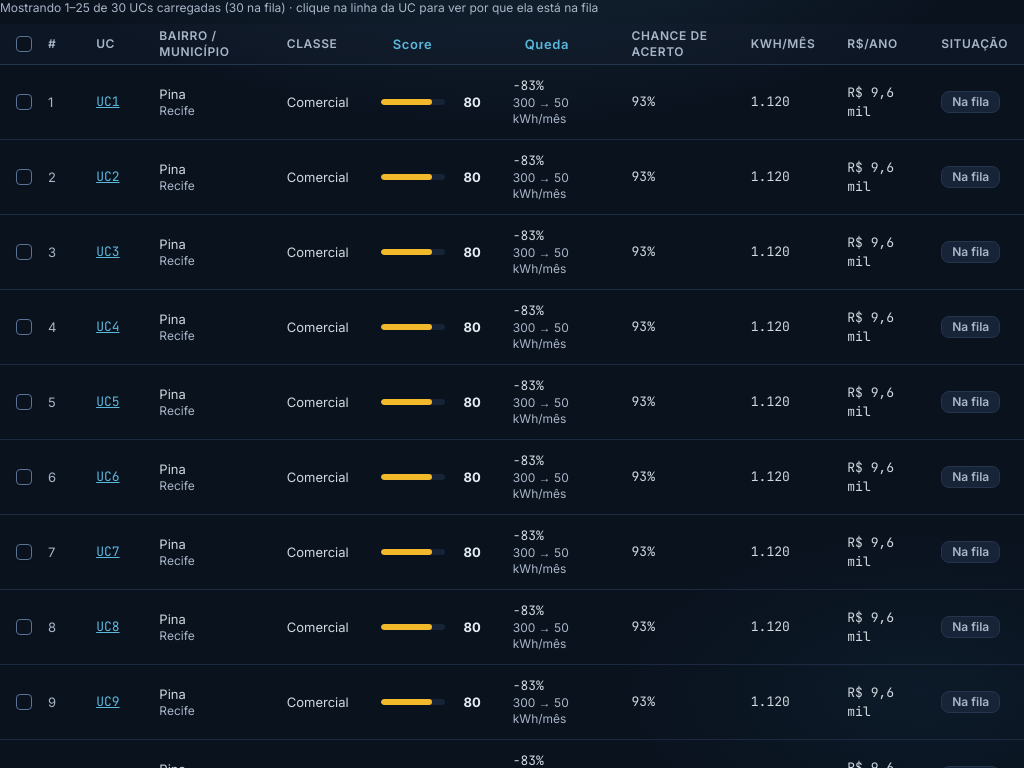
Test case: PrioritizedQueueTable › marca pelo cabeçalho só as UCs da página visível
The image size is (1024, 768).
Click the checkbox named "Selecionar as UCs livres da página". click: (24, 44)
box: [16,36,32,52]
(page scrolled)
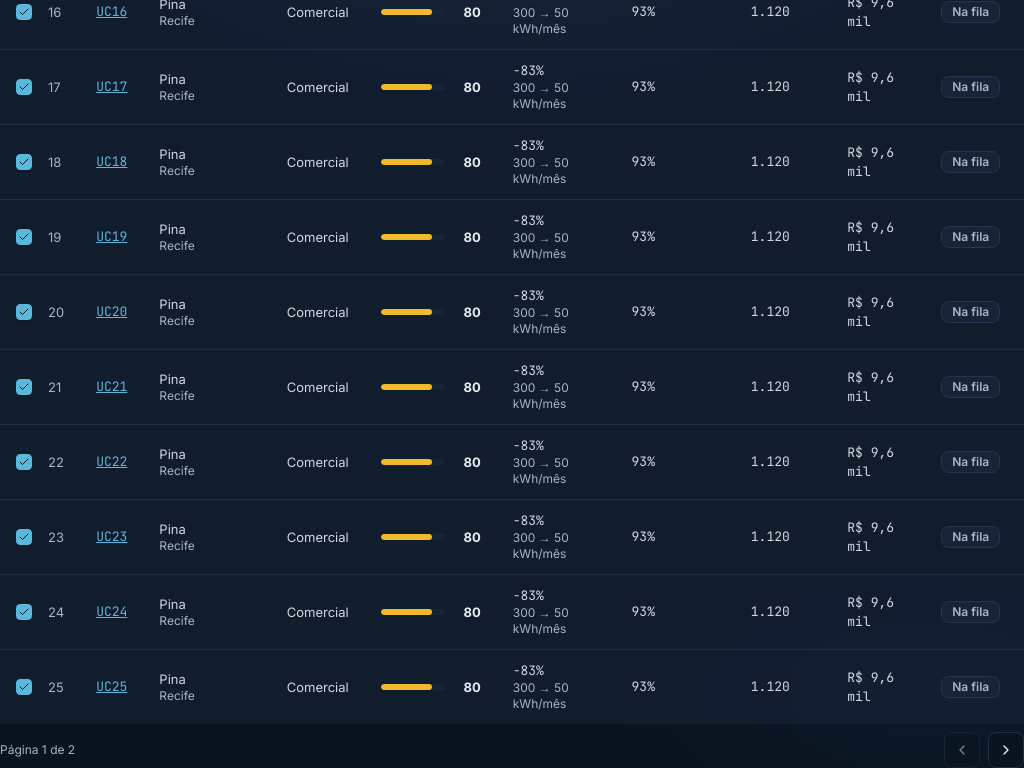
Check: the checkbox named "Selecionar UC25" is checked, box [16,678,32,694]
Click the button named "Próxima página". click: (1006, 750)
box: [988,732,1023,767]
(page scrolled)
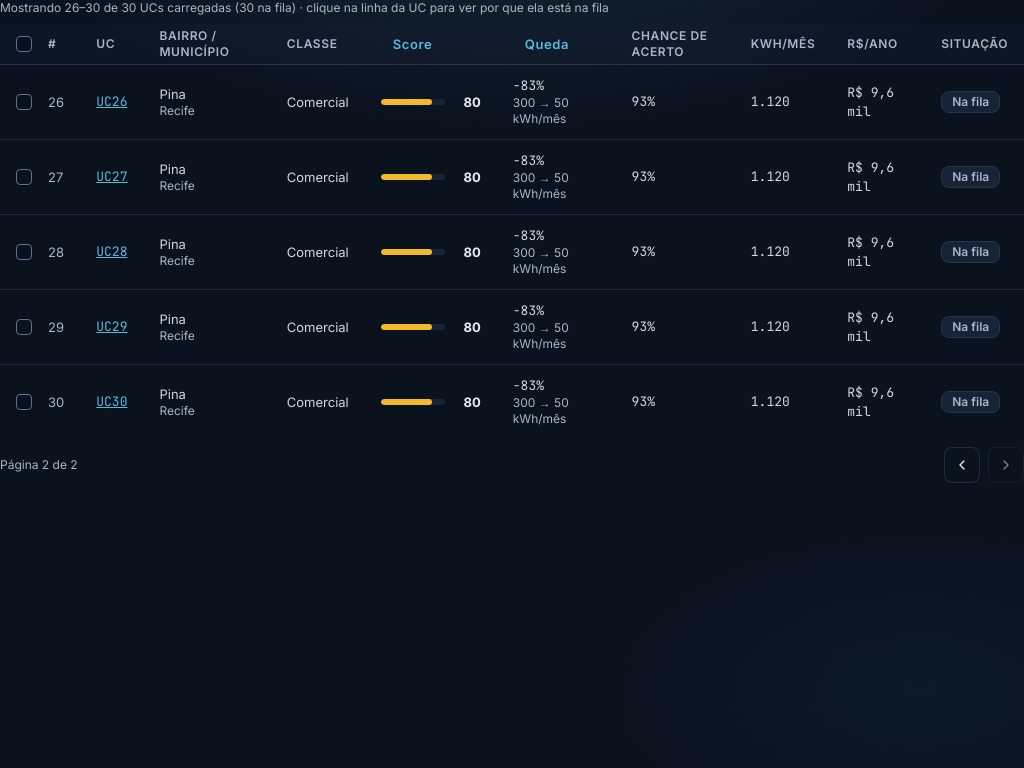
Check: the checkbox named "Selecionar as UCs livres da página" is not checked, box [16,36,32,52]
Check: the checkbox named "Selecionar UC26" is not checked, box [16,94,32,110]
